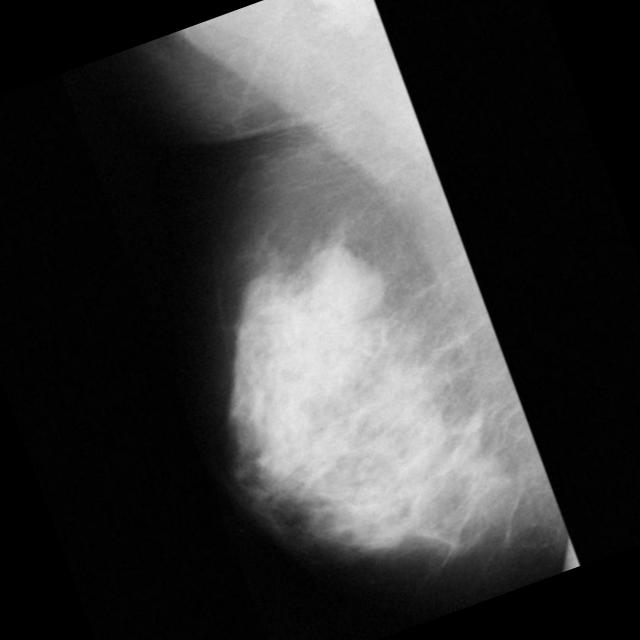CIRC: (294, 236, 376, 320)
